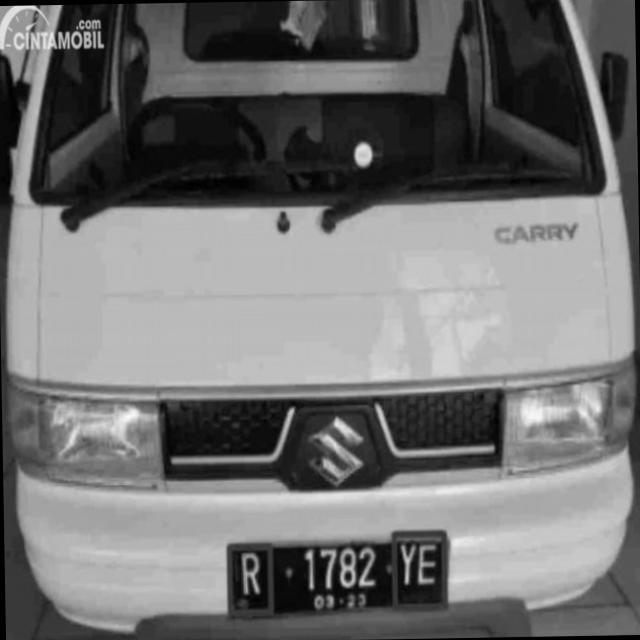1: (298, 546, 324, 600)
2: (357, 540, 382, 596)
7: (322, 536, 339, 600)
8: (337, 546, 360, 597)
E: (418, 528, 440, 592)
R: (236, 542, 270, 613)
Y: (388, 539, 418, 594)
